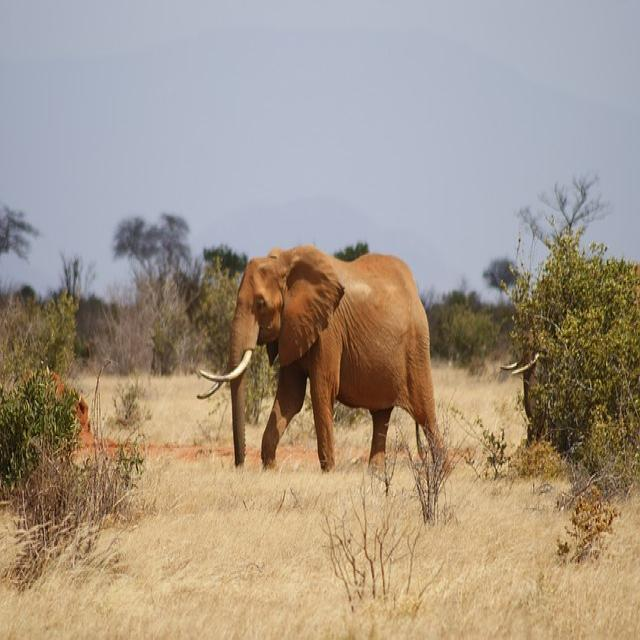FIL: (194, 233, 448, 479)
